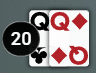q: (29, 10, 50, 33), (50, 11, 71, 33)
